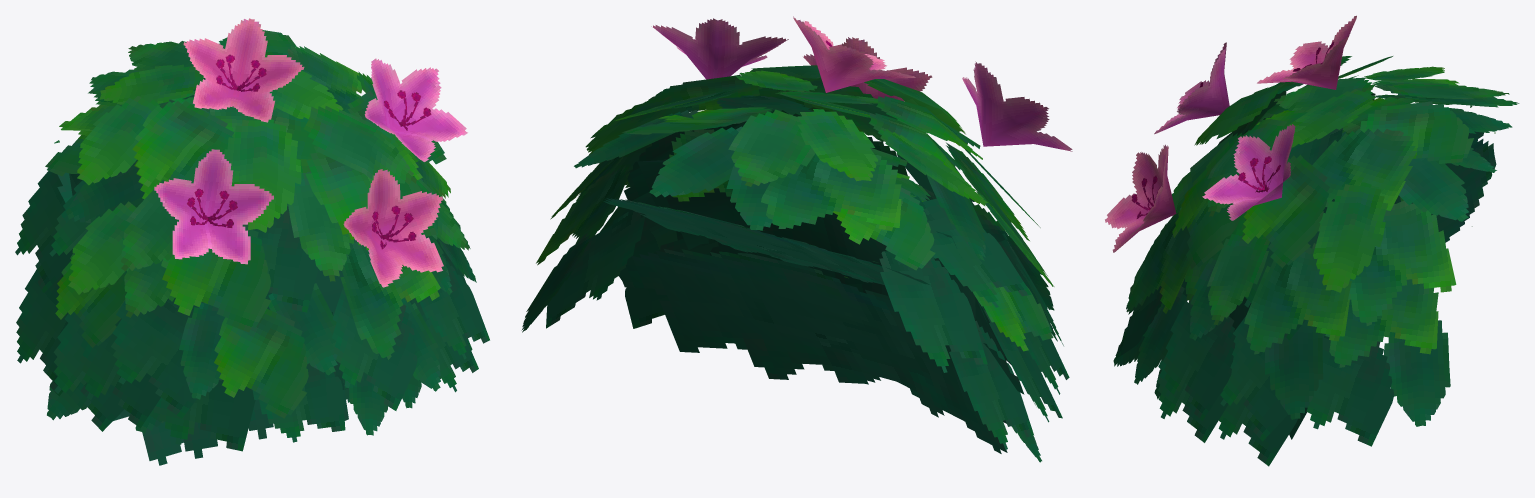
Rendered from bush-pink-azalea.glb.
3 renders of one model, left to right at view 1: azimuth 30°, elevation 25°; view 2: azimuth 150°, elevation 25°; view 3: azimuth 270°, elevation 25°, orthographic. The views are drawn at different scales.
Bounding box in the file's own units: 10.65 × 9.54 × 9.23.
2 materials, 2 textured.
